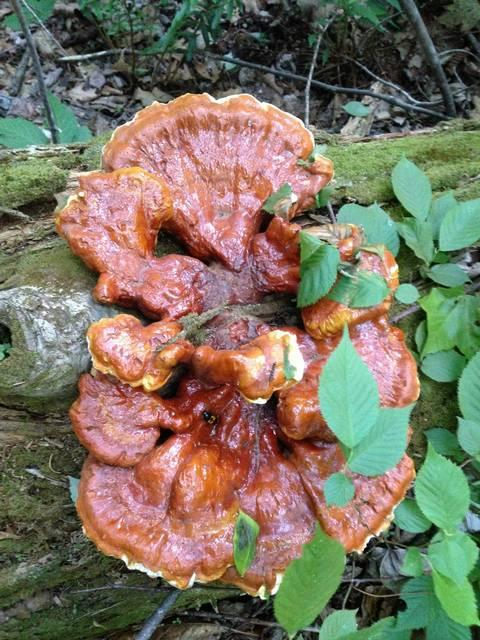poisonous_mushroom: (54, 90, 420, 597)
